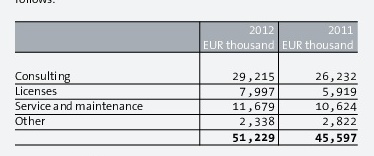table: (0, 0, 374, 156)
